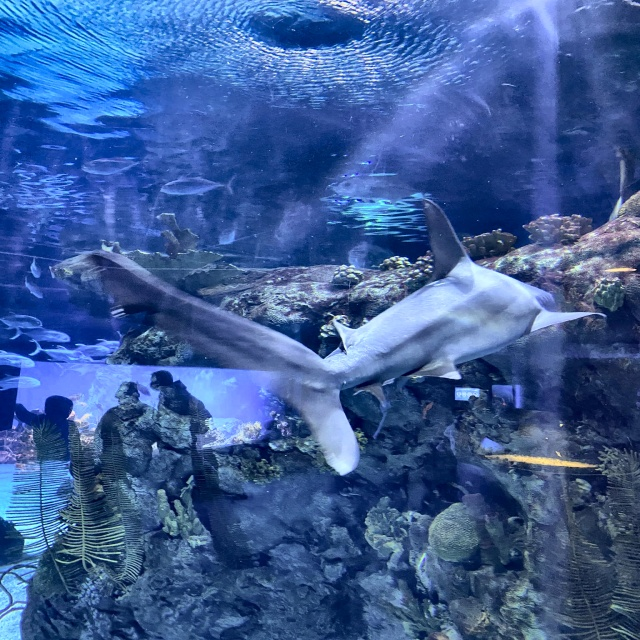fish: (160, 176, 236, 196), (30, 340, 80, 363), (81, 157, 147, 174), (10, 327, 69, 344), (0, 312, 42, 332), (0, 373, 41, 392), (84, 338, 127, 352), (72, 343, 111, 358), (0, 352, 35, 367), (25, 276, 43, 298), (28, 258, 40, 277)
shark: (89, 197, 605, 474)
